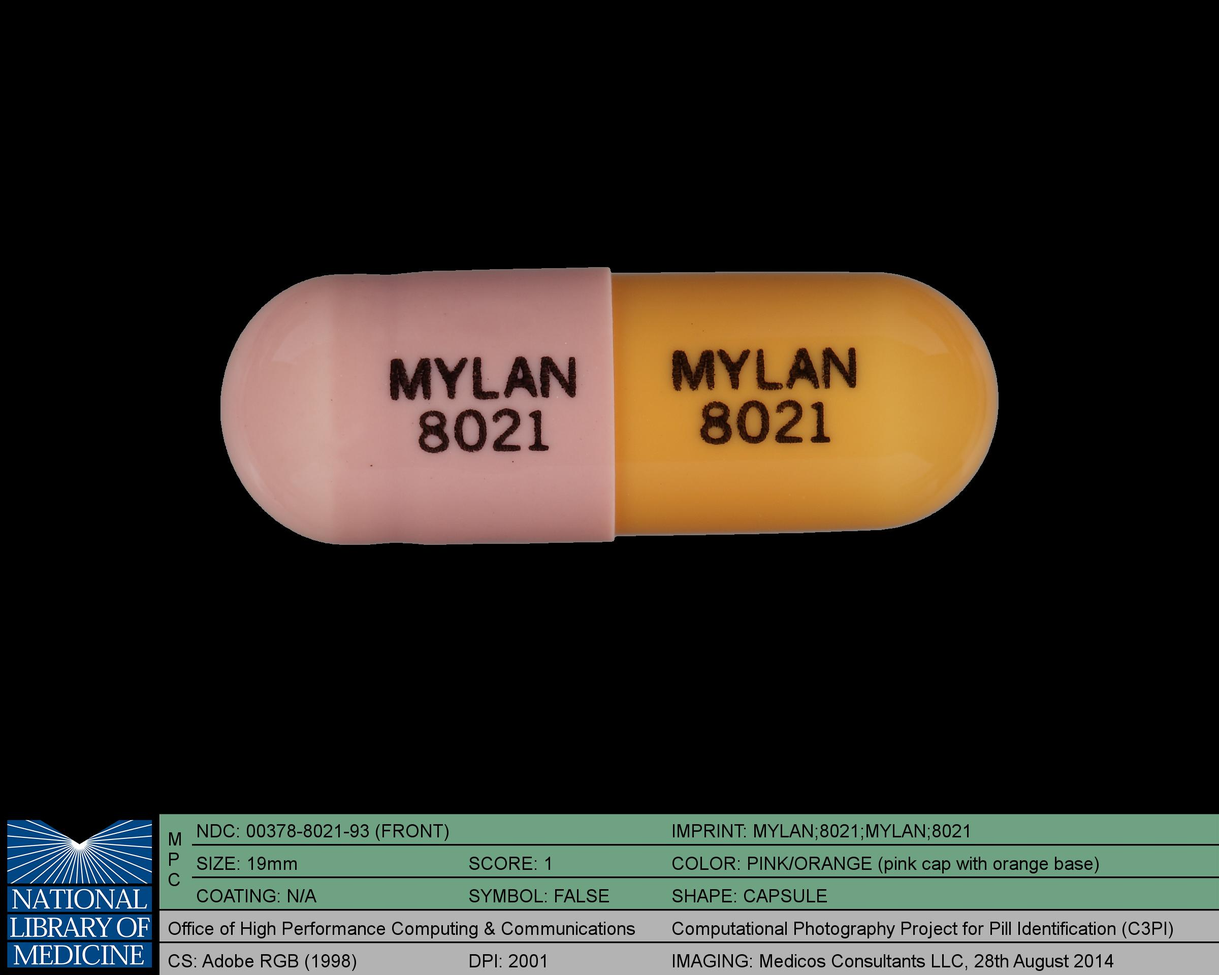Pill: (210, 254, 1011, 555)
